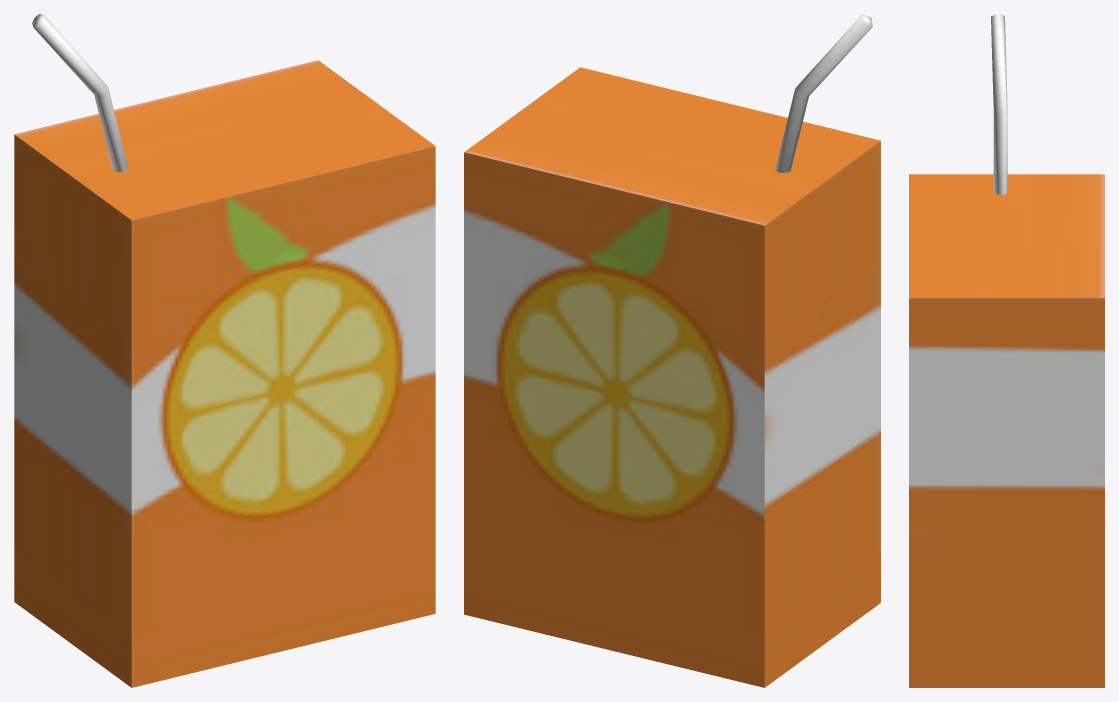
The picture shows the model from 3 angles, left to right: view 1: azimuth 30°, elevation 25°; view 2: azimuth 150°, elevation 25°; view 3: azimuth 270°, elevation 25°; orthographic projection. The views are drawn at different scales.
Visible parts, largest first — view 1: 12-2; view 2: 12-2; view 3: 12-2.
Boxes of the visible parts, x1,y1,x2,y2 form: 12-2: [14, 14, 435, 687]; 12-2: [464, 14, 880, 687]; 12-2: [909, 14, 1104, 687].
Size of the model in its own units: 8.69 by 15.31 by 5.07.
